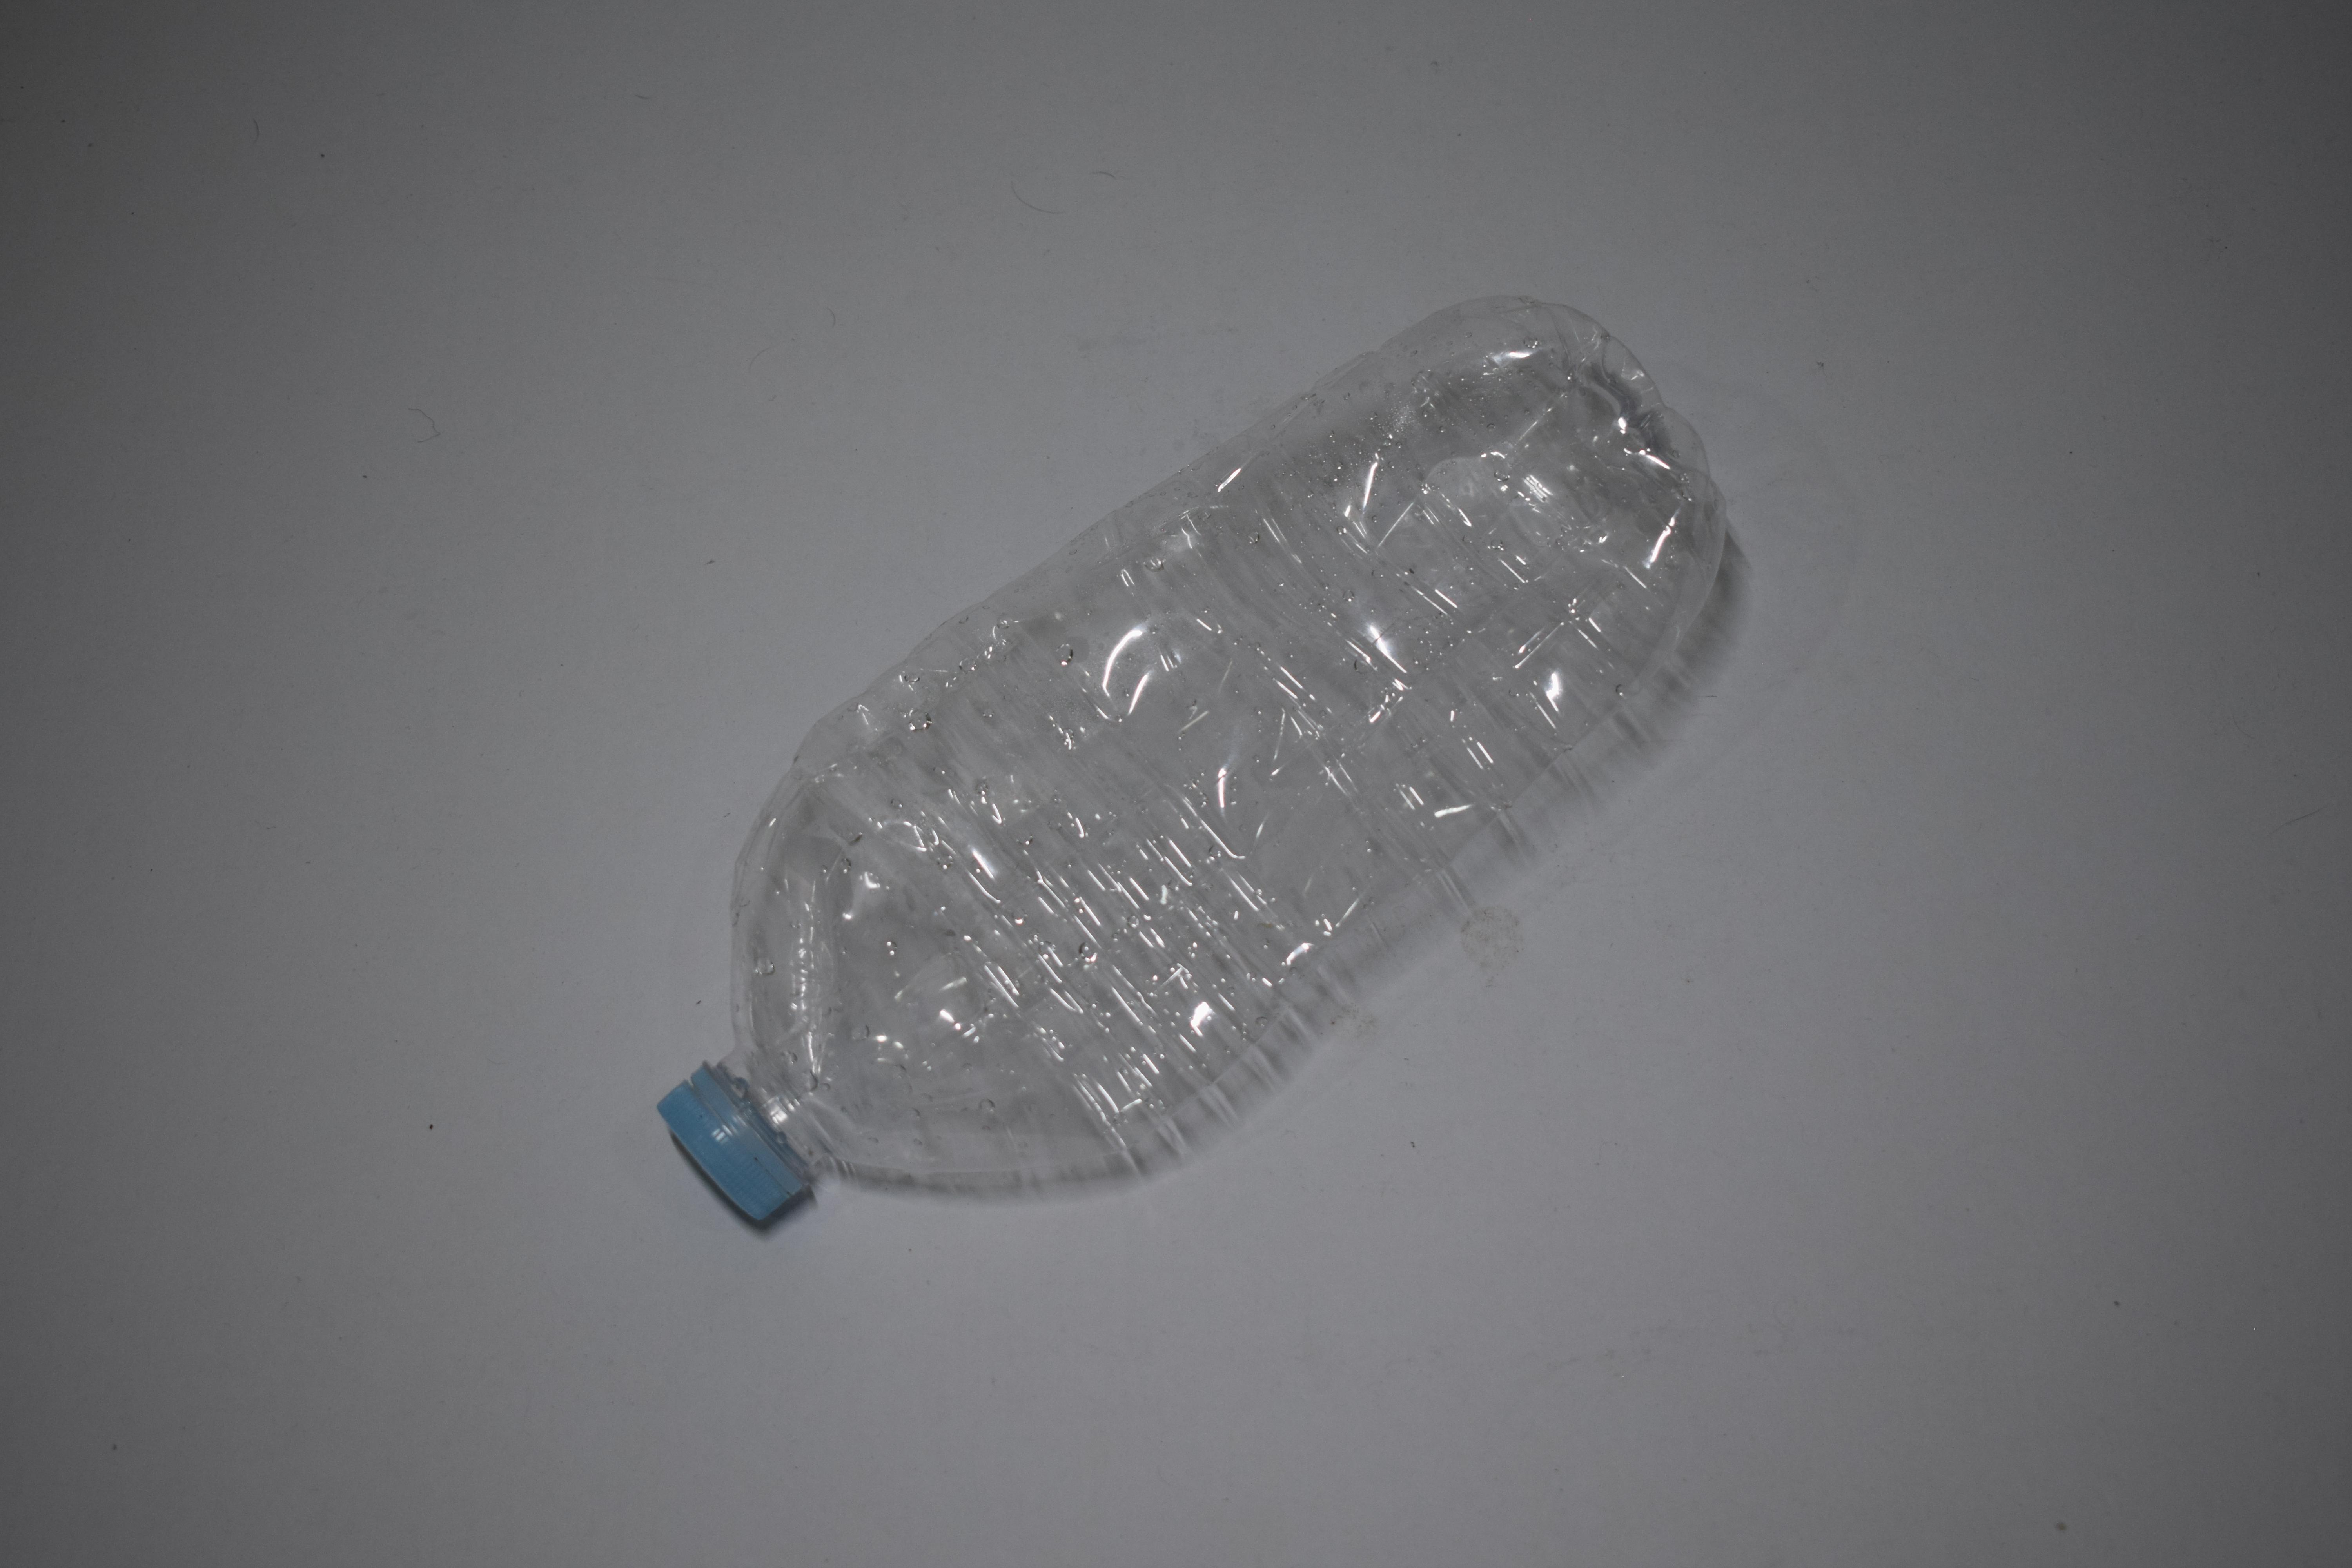bottle: (0, 294, 565, 1246)
